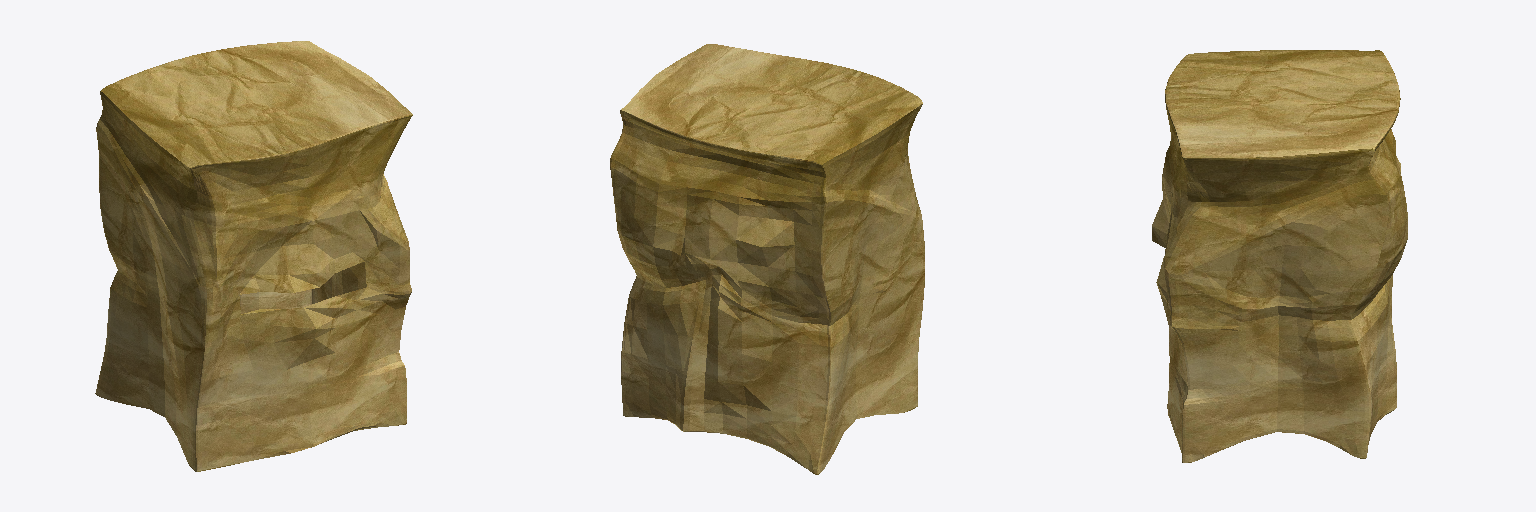
3 renders of one model, left to right at view 1: azimuth 30°, elevation 25°; view 2: azimuth 150°, elevation 25°; view 3: azimuth 270°, elevation 25°, orthographic.
Parts seen in each view (by area): view 1: Box02; view 2: Box02; view 3: Box02.
Boxes of the visible parts, box(x1,y1,x2,y2) form: Box02: box(95, 41, 412, 471); Box02: box(610, 44, 924, 474); Box02: box(1152, 50, 1407, 462).
Bounding box in the file's own units: 182 × 243 × 179.
1 materials, 1 textured.